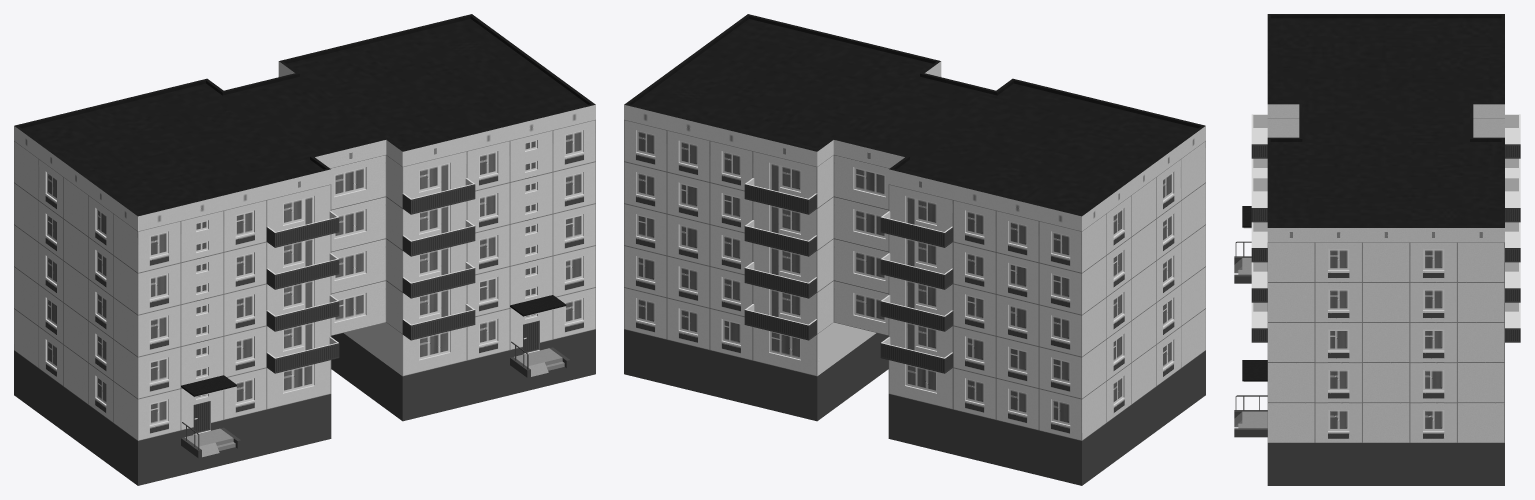
File: panelak.glb
3 views of the same model, side by side, from view 1: azimuth 30°, elevation 25°; view 2: azimuth 150°, elevation 25°; view 3: azimuth 270°, elevation 25° (orthographic). The views are drawn at different scales.
Visible parts, largest first — view 1: Khrush; view 2: Khrush; view 3: Khrush.
Part boxes in pixels (left/top/right/bottom): Khrush: left=14, top=14, right=595, bottom=485; Khrush: left=624, top=14, right=1205, bottom=485; Khrush: left=1234, top=14, right=1520, bottom=485.
Bounding box in the file's own units: 32 × 18 × 18.1.
1 material, 1 textured.
